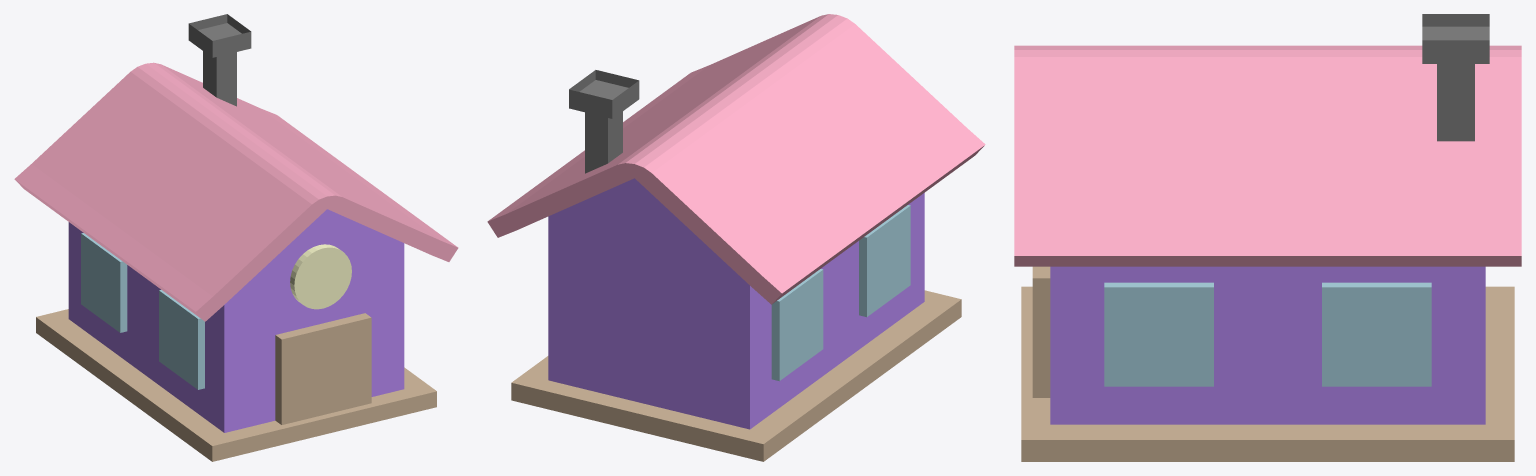
File: house.fbx
3 renders of one model, left to right at view 1: azimuth 30°, elevation 25°; view 2: azimuth 150°, elevation 25°; view 3: azimuth 270°, elevation 25°, orthographic. The views are drawn at different scales.
Parts seen in each view (by area): view 1: Roof, Cube, Plane, Chimney, Window3, Window4, Cylinder; view 2: Roof, Cube, Plane, Chimney, Window3, Window4; view 3: Roof, Cube, Plane, Window1, Window2, Chimney.
Boxes of the visible parts, bbox=[...] form: Roof: bbox=[14, 62, 458, 321]; Cube: bbox=[68, 209, 404, 432]; Plane: bbox=[36, 309, 436, 461]; Chimney: bbox=[188, 14, 251, 106]; Window3: bbox=[81, 233, 127, 332]; Window4: bbox=[159, 290, 204, 389]; Cylinder: bbox=[290, 244, 351, 309]; Roof: bbox=[487, 14, 985, 304]; Cube: bbox=[548, 178, 924, 429]; Plane: bbox=[511, 290, 961, 461]; Chimney: bbox=[569, 70, 639, 173]; Window3: bbox=[771, 269, 823, 381]; Window4: bbox=[859, 205, 910, 317]; Roof: bbox=[1014, 45, 1521, 266]; Cube: bbox=[1050, 266, 1485, 424]; Plane: bbox=[1021, 266, 1514, 461]; Window1: bbox=[1104, 282, 1213, 386]; Window2: bbox=[1322, 282, 1431, 386]; Chimney: bbox=[1422, 14, 1489, 141].
Size of the model in its own units: 584 by 597 by 699.
